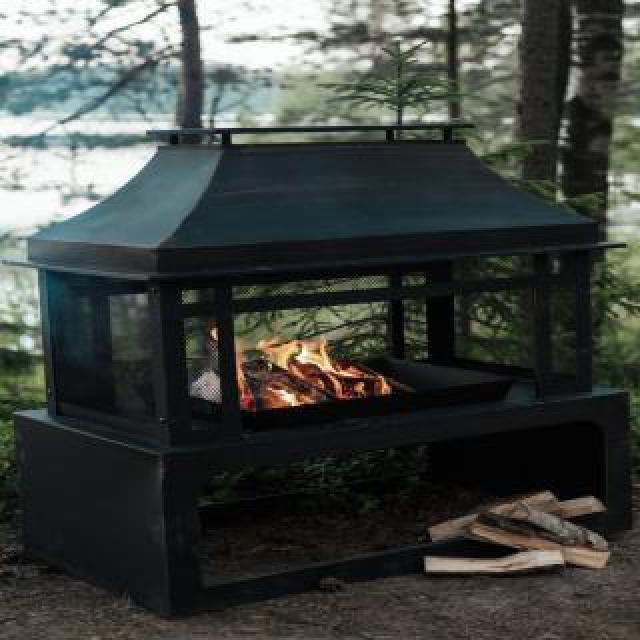Fire: (200, 328, 400, 416)
